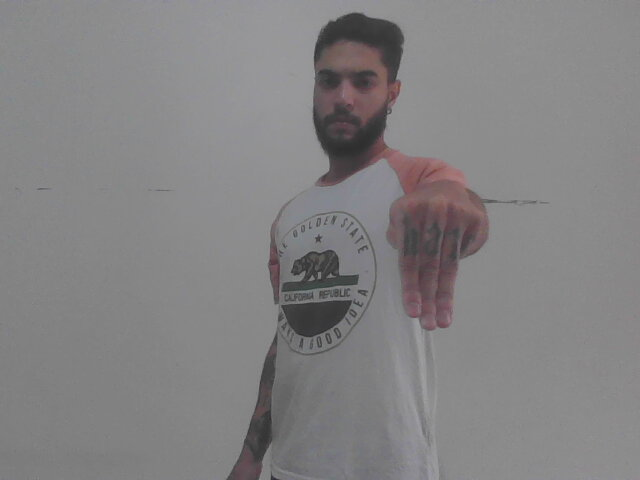m: (381, 179, 488, 331)
